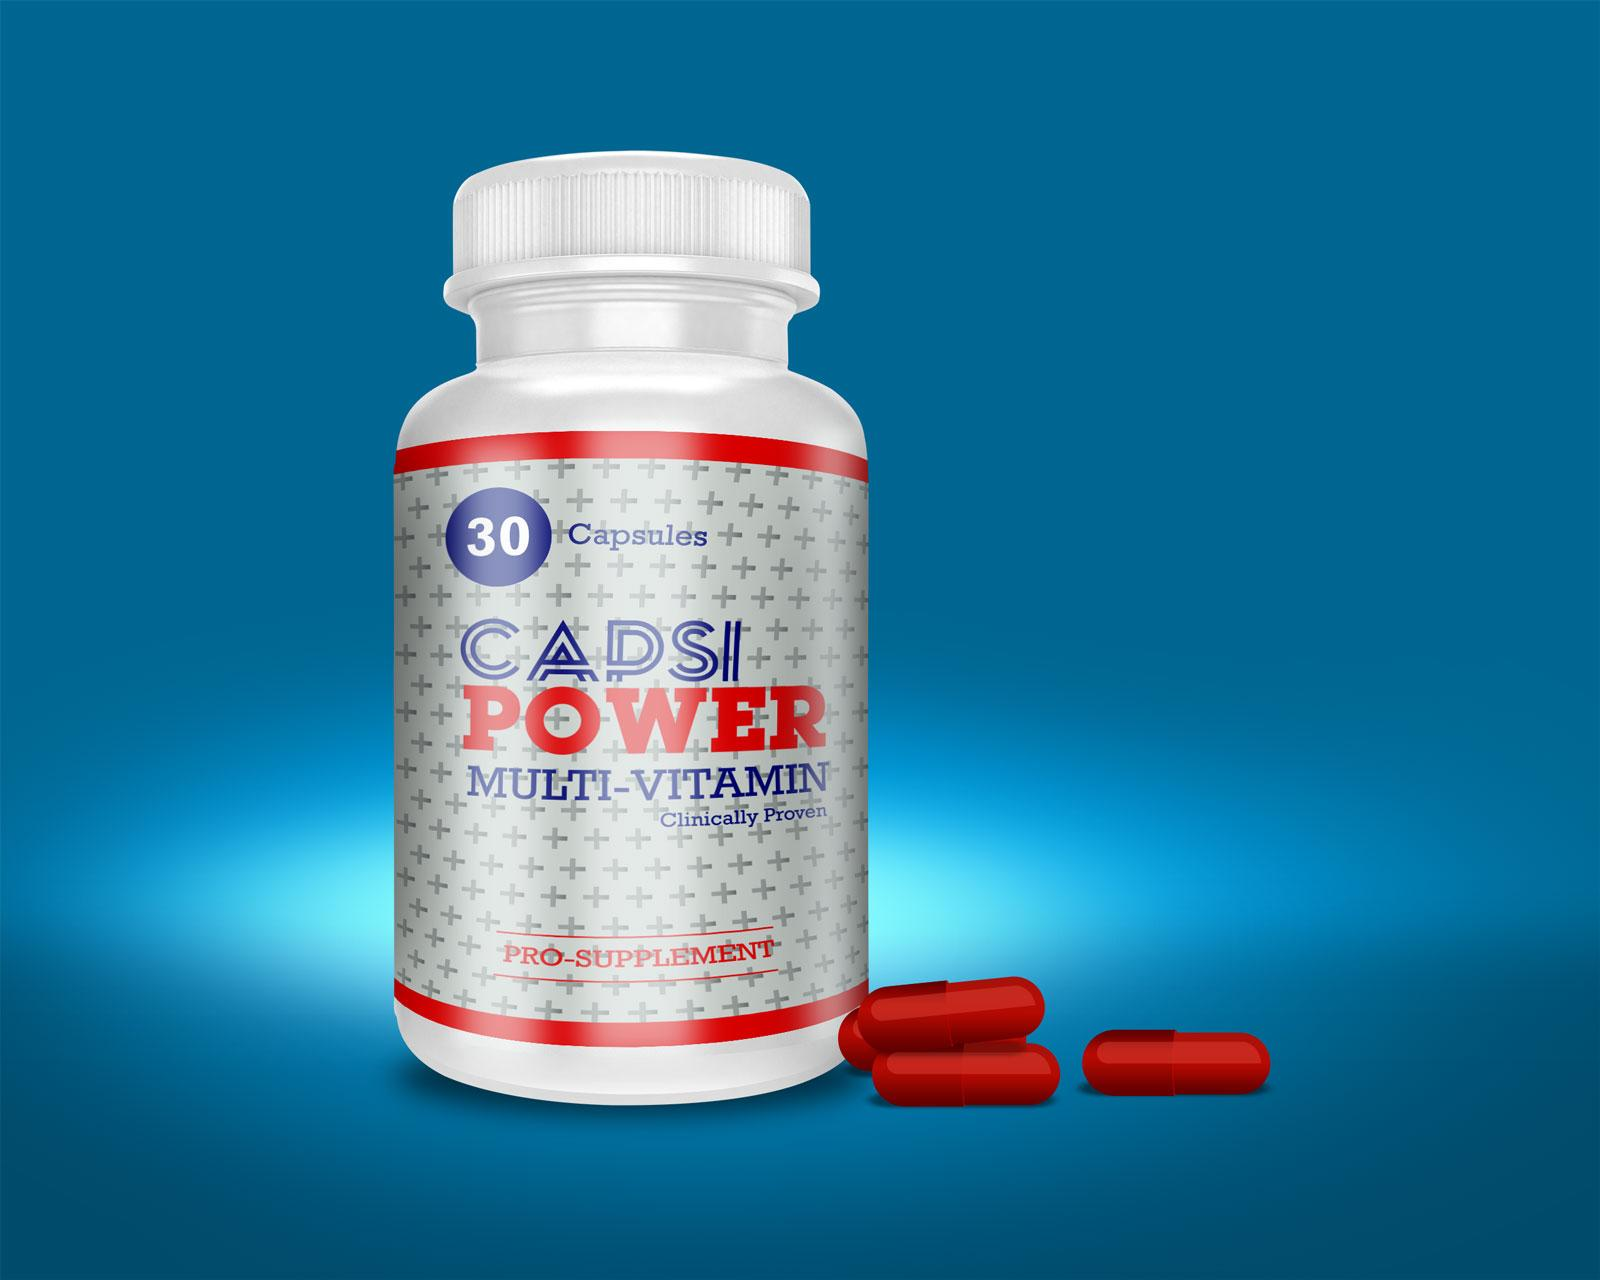jar: (388, 154, 866, 1112)
